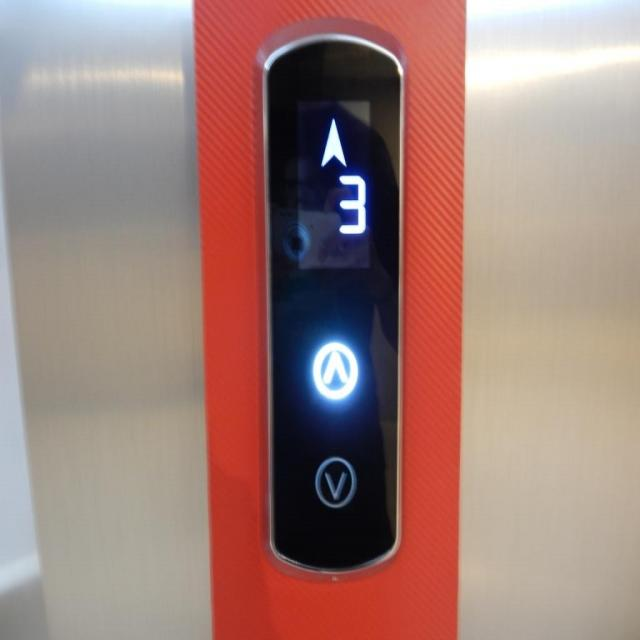down: (314, 454, 356, 508)
led: (291, 97, 373, 274)
up: (312, 339, 358, 399)
